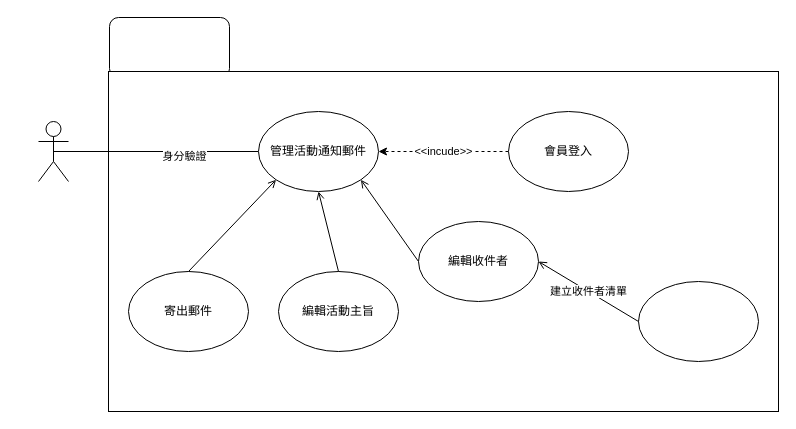
Image size: 796x429. Some labels were removed from this diagram. The shapes that lost their labels are listed below. From the top down, each one's centre as x and y in pixels, then its label:
point 169,47: 輕量化活動通知系統
point 53,151: 活動主辦單位
point 698,321: 報名資料試算表
